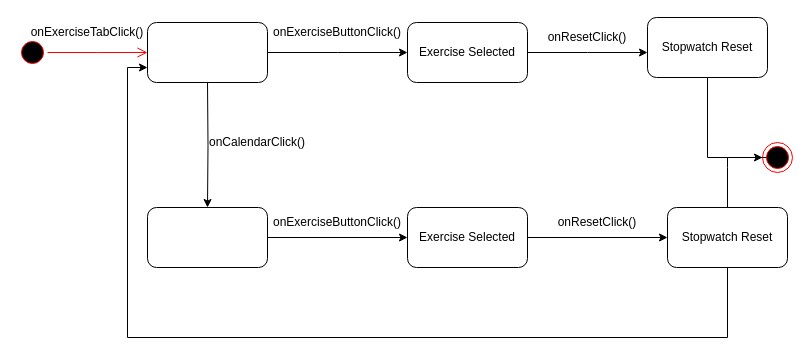
The diagram is 810 pixels wide and 363 high, and some of its shapes have lost their labels. Each missing label, with the box of its shape:
Date Selected: (146, 206, 268, 268)
Stopwatch not set to 0:00: (146, 22, 268, 82)
